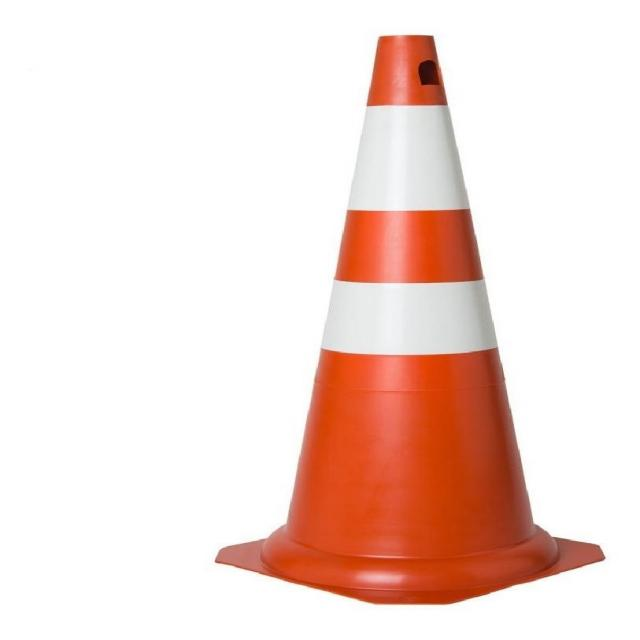cone: (201, 22, 613, 618)
